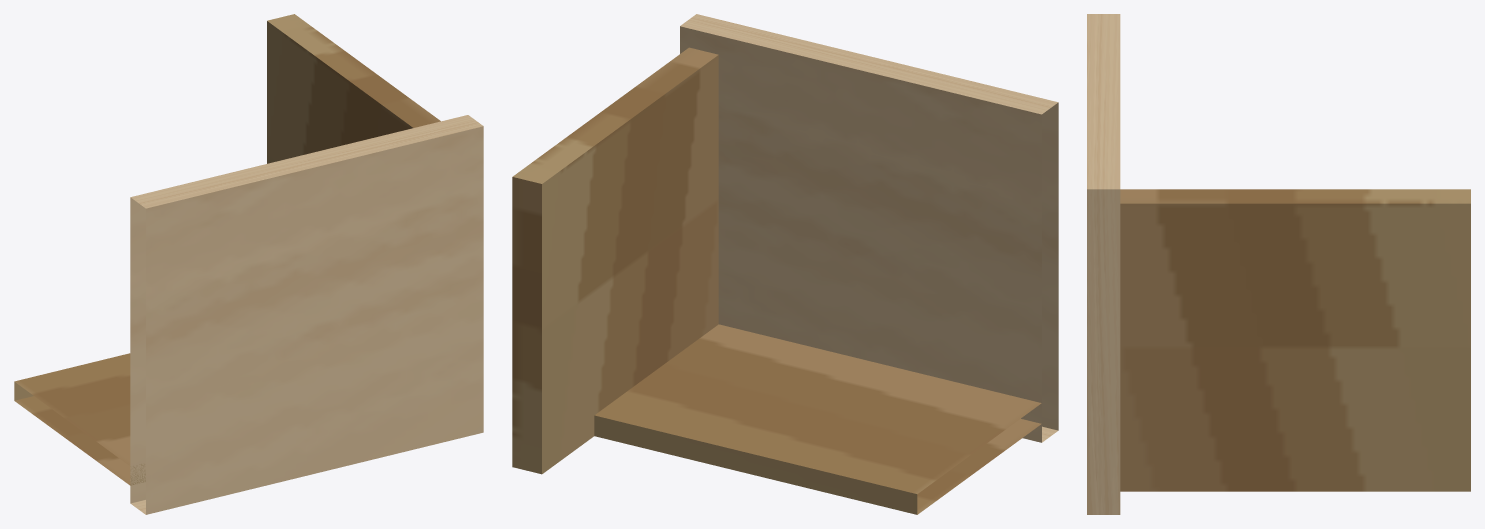
Rendered from pz_table_tables_high_01_lightwood_1_0.obj.
3 views of the same model, side by side, from view 1: azimuth 30°, elevation 25°; view 2: azimuth 150°, elevation 25°; view 3: azimuth 270°, elevation 25° (orthographic). The views are drawn at different scales.
Bounding box in the file's own units: 0.9375 × 0.8125 × 0.8675.
Materials: 1 (1 with a texture image).
